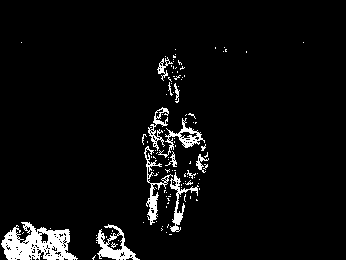person: (171, 111, 211, 236), (141, 106, 176, 225), (157, 47, 186, 104)
